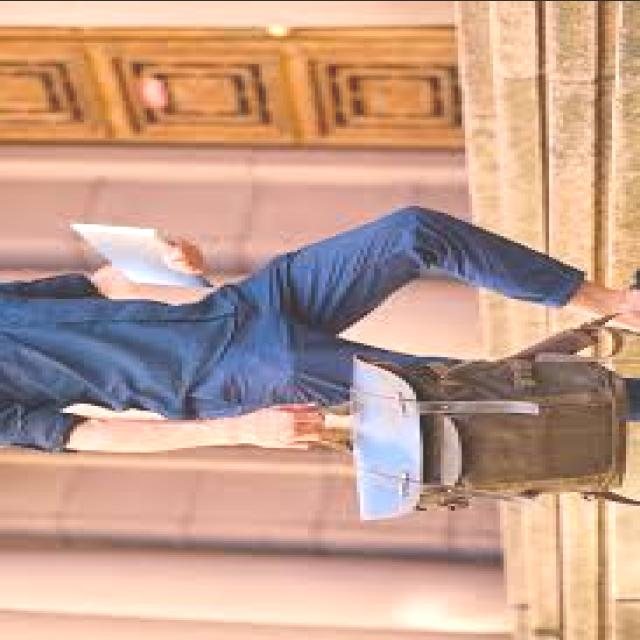backpack: (347, 347, 633, 527)
